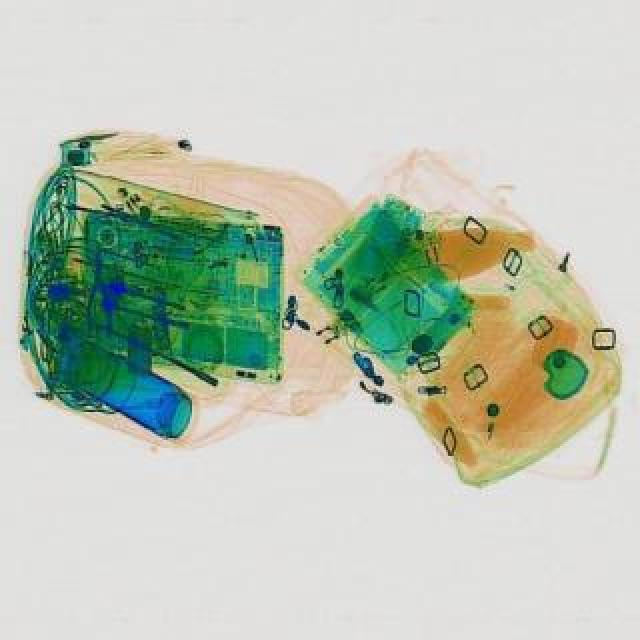wrench: (86, 246, 114, 340)
